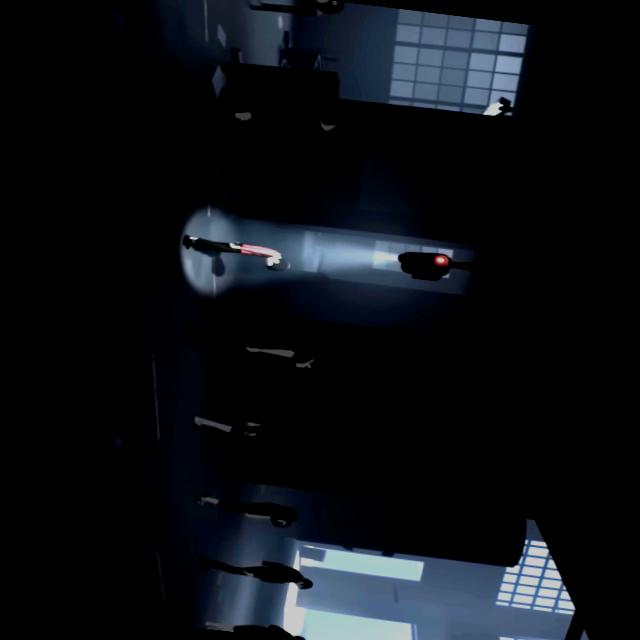boy: (180, 233, 291, 270)
zombie: (175, 93, 342, 145), (184, 328, 320, 374), (190, 412, 325, 448), (198, 552, 316, 589), (193, 492, 299, 528), (203, 615, 307, 640), (169, 0, 344, 14)
